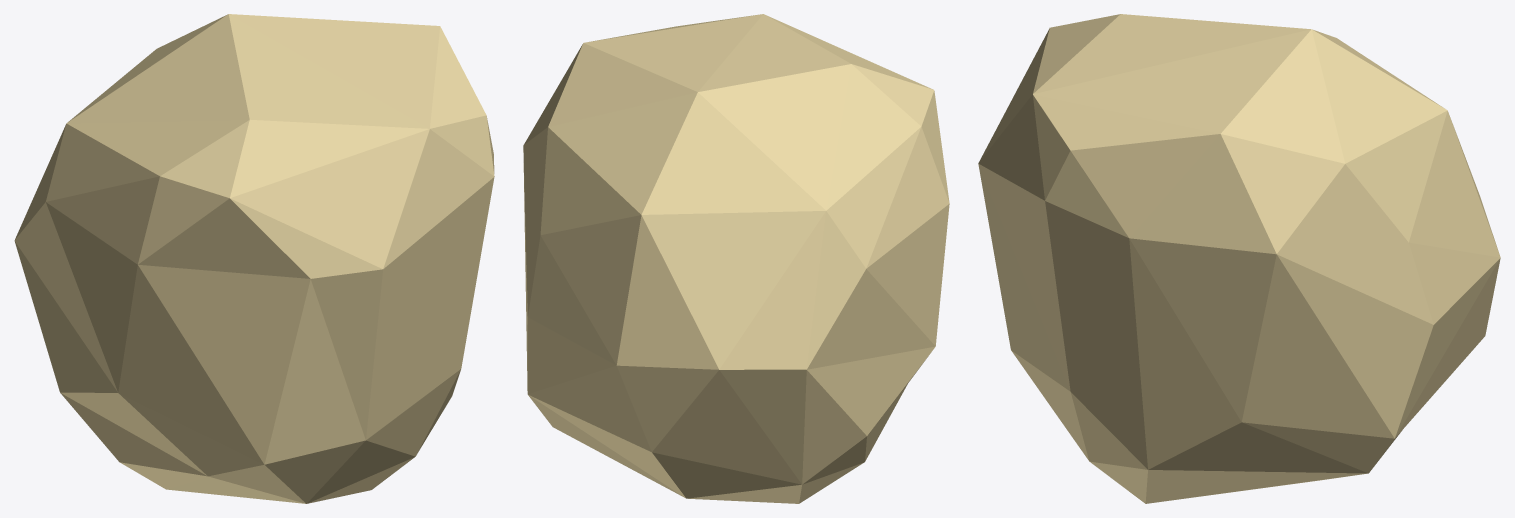
File: Rock (31).fbx
3 views of the same model, side by side, from view 1: azimuth 30°, elevation 25°; view 2: azimuth 150°, elevation 25°; view 3: azimuth 270°, elevation 25° (orthographic). The views are drawn at different scales.
Parts seen in each view (by area): view 1: Asteroid30; view 2: Asteroid30; view 3: Asteroid30.
Part boxes in pixels (x1=…): Asteroid30: x1=14, y1=14, x2=494, y2=503; Asteroid30: x1=523, y1=14, x2=949, y2=503; Asteroid30: x1=978, y1=14, x2=1500, y2=503.
Bounding box in the file's own units: 162 × 175 × 185.
